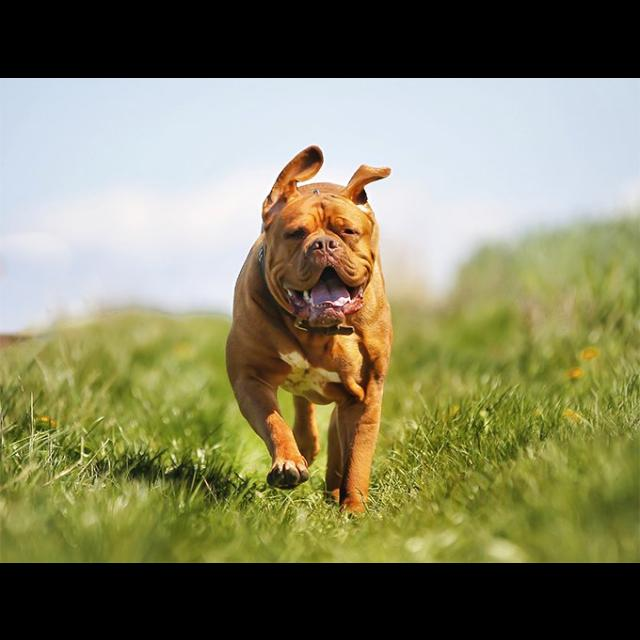dogue_de_bordeaux: (225, 144, 395, 516)
